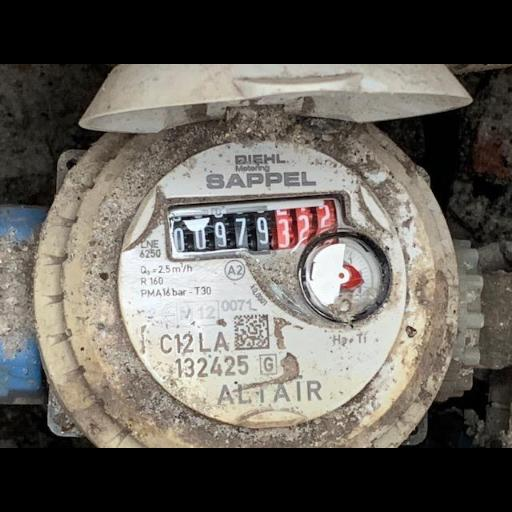0: (170, 216, 195, 255), (191, 214, 215, 253)
2: (296, 207, 320, 244), (316, 204, 338, 232)
3: (275, 208, 299, 251)
7: (233, 211, 258, 251)
9: (254, 210, 278, 251), (212, 212, 236, 251)
border_water_meter_number: (163, 191, 349, 263)
